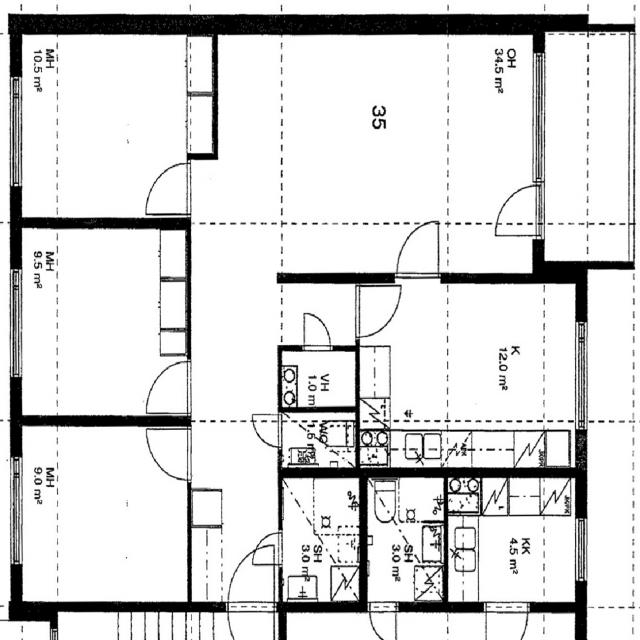door: (229, 545, 274, 612), (494, 187, 546, 236), (396, 222, 437, 284), (146, 428, 192, 480), (146, 362, 192, 413), (146, 164, 192, 214), (356, 286, 400, 336), (304, 314, 330, 351), (253, 533, 282, 564), (253, 415, 282, 446)
